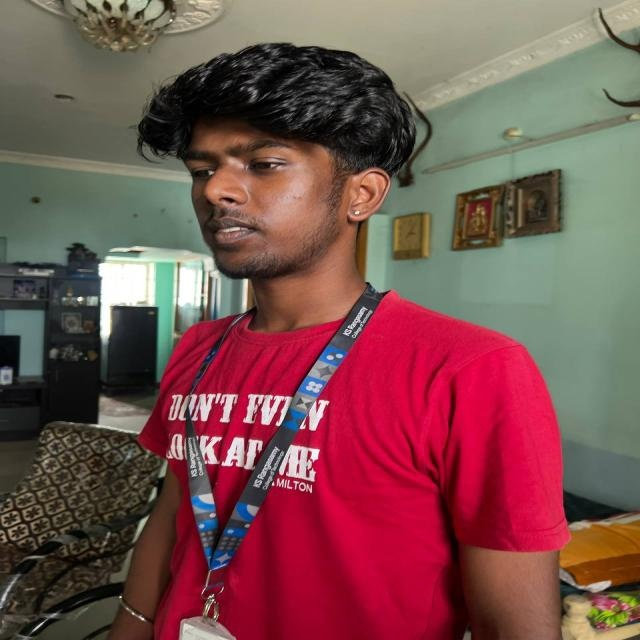ID_card: (173, 295, 390, 640)
